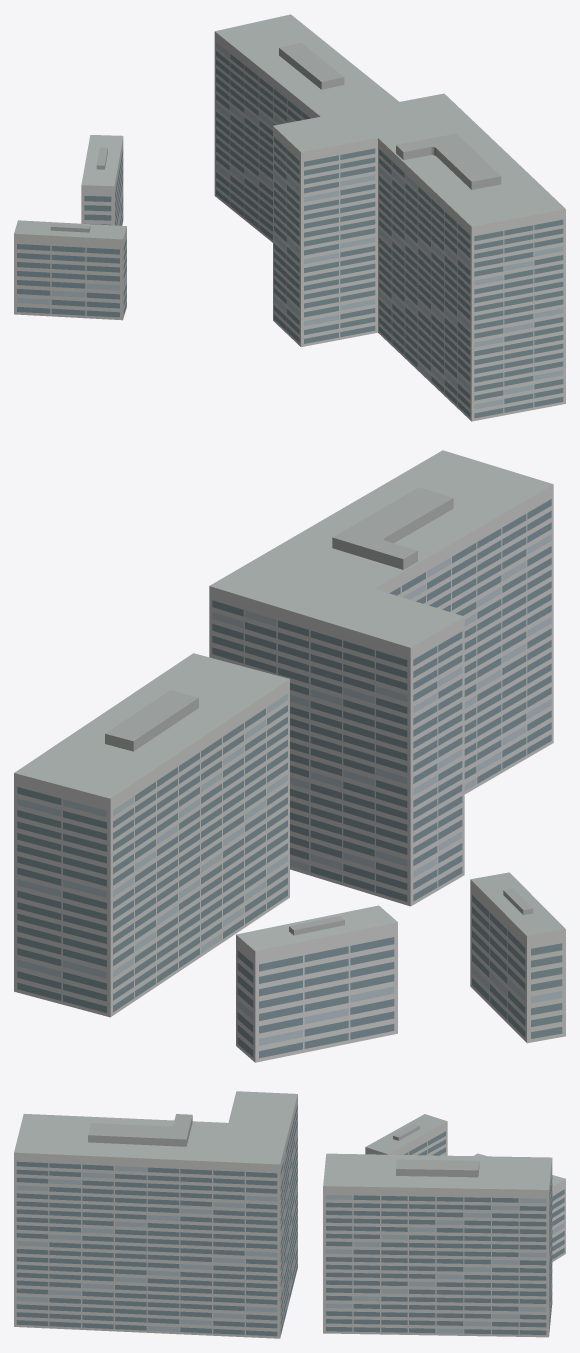
The model's file is apt-a14383901.glb.
3 views of the same model, one above another, from view 1: azimuth 30°, elevation 25°; view 2: azimuth 150°, elevation 25°; view 3: azimuth 270°, elevation 25° (orthographic). The views are drawn at different scales.
Visible parts, largest first — view 1: apt-a14383901; view 2: apt-a14383901; view 3: apt-a14383901.
Boxes of the visible parts, bbox=[...] form: apt-a14383901: bbox=[14, 14, 565, 421]; apt-a14383901: bbox=[14, 450, 565, 1062]; apt-a14383901: bbox=[14, 1091, 565, 1338].
Size of the model in its own units: 108 by 60 by 165.
